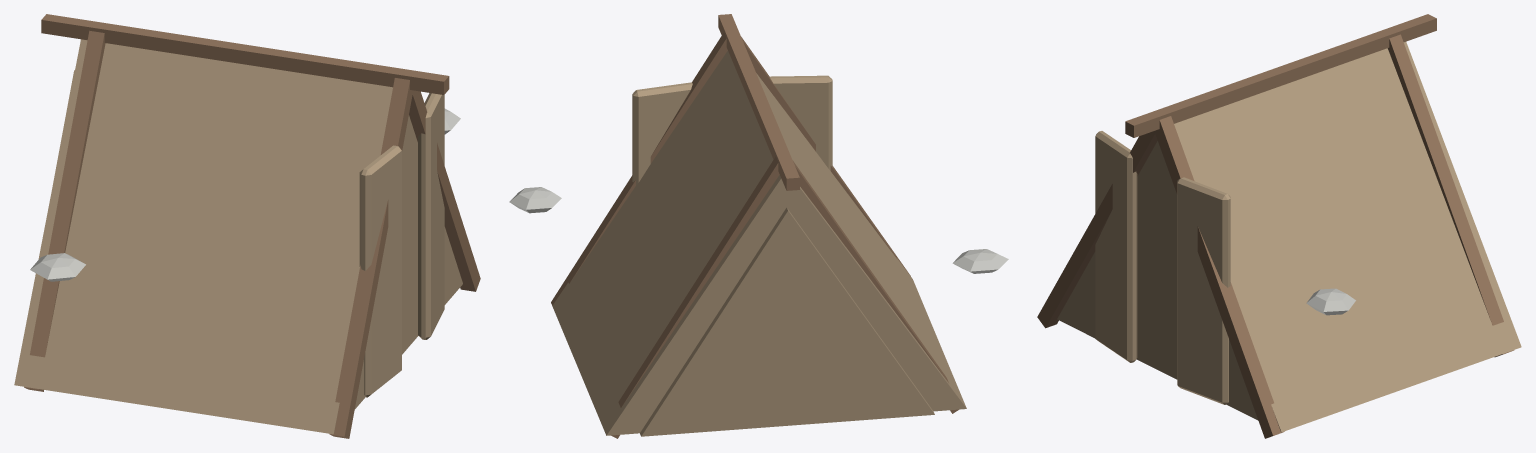
The model's file is town_goblin_tent.glb.
3 renders of one model, left to right at view 1: azimuth 30°, elevation 25°; view 2: azimuth 150°, elevation 25°; view 3: azimuth 270°, elevation 25°, orthographic. The views are drawn at different scales.
Parts seen in each view (by area): view 1: world; view 2: world; view 3: world.
Part boxes in pixels (x1=…): world: x1=14, y1=14, x2=480, y2=438; world: x1=509, y1=14, x2=1008, y2=438; world: x1=1037, y1=14, x2=1521, y2=438.
Bounding box in the file's own units: 2 × 1.17 × 1.91.
